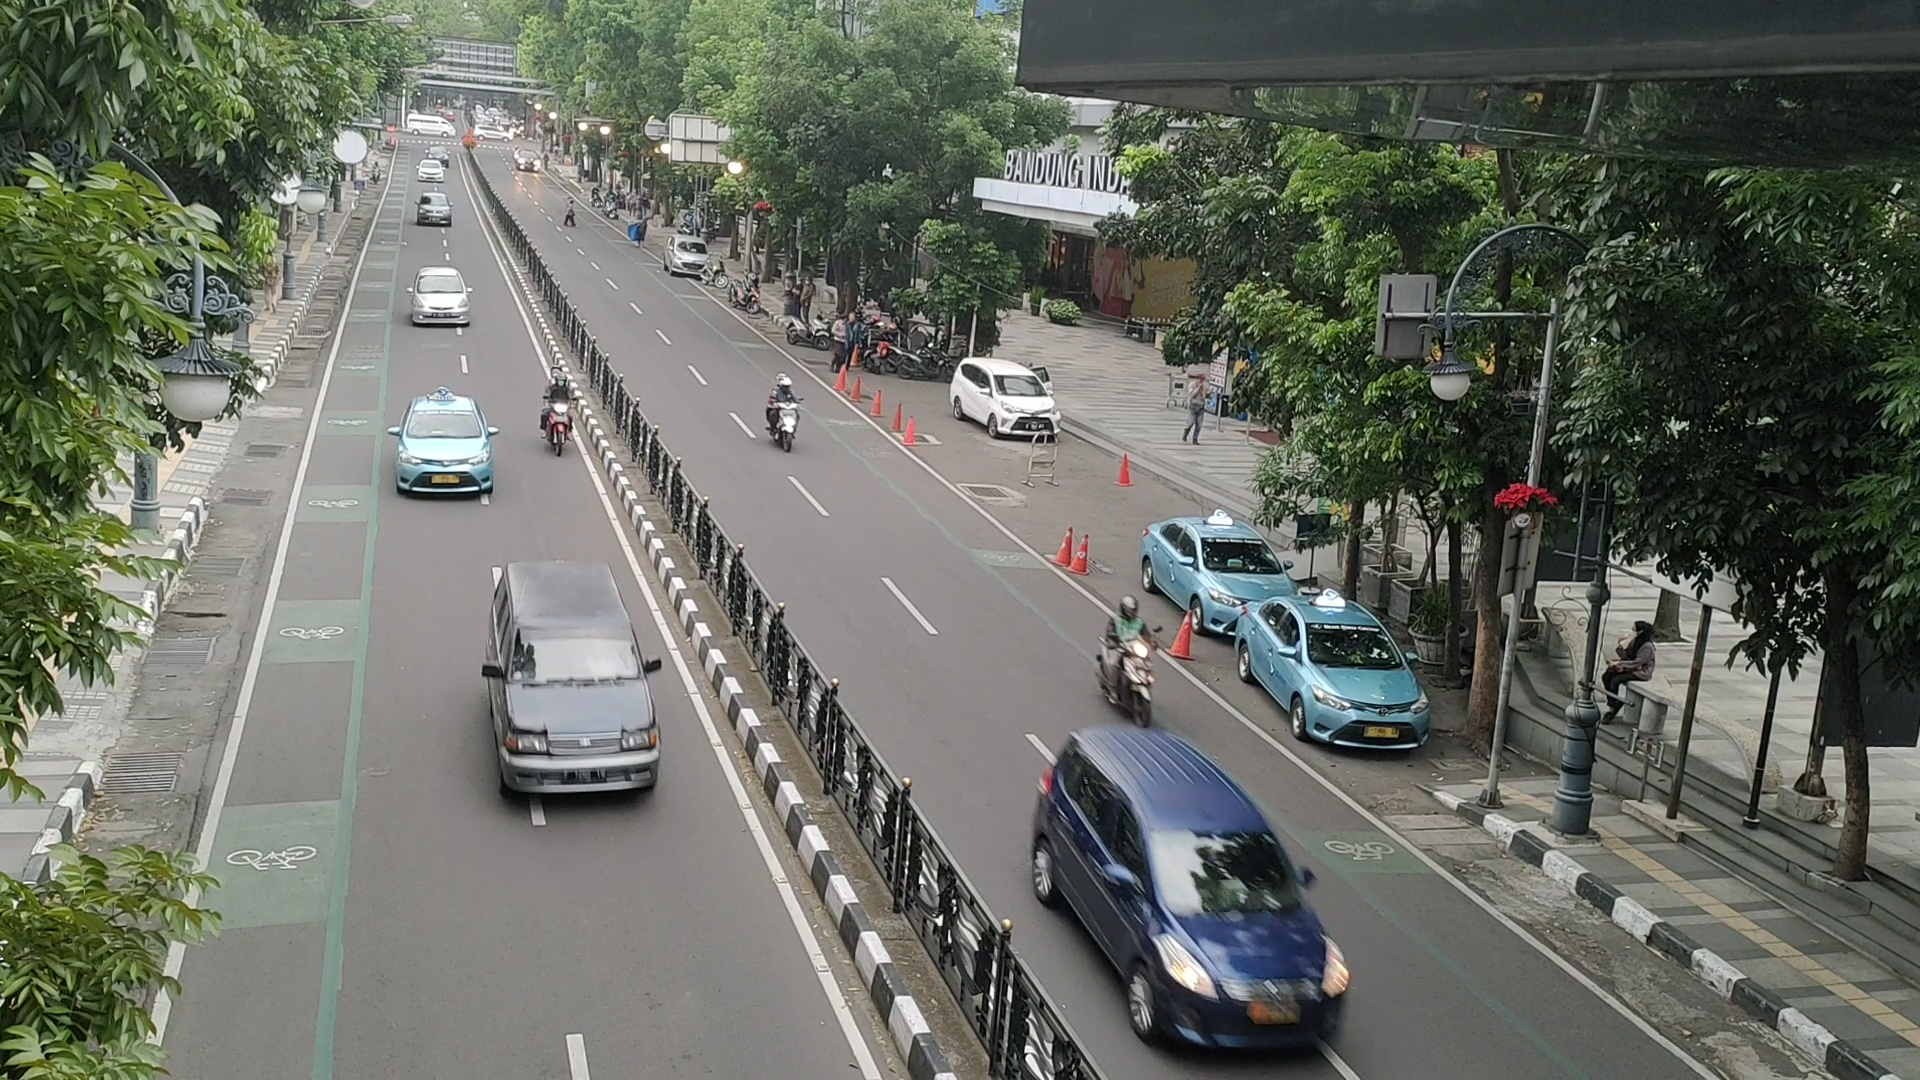mobil: (1129, 825, 1346, 1055), (487, 622, 659, 806), (1295, 622, 1436, 760), (396, 407, 493, 496), (984, 372, 1065, 438), (407, 273, 465, 331)
motor: (1102, 592, 1163, 723), (533, 356, 585, 469), (748, 364, 808, 458)
